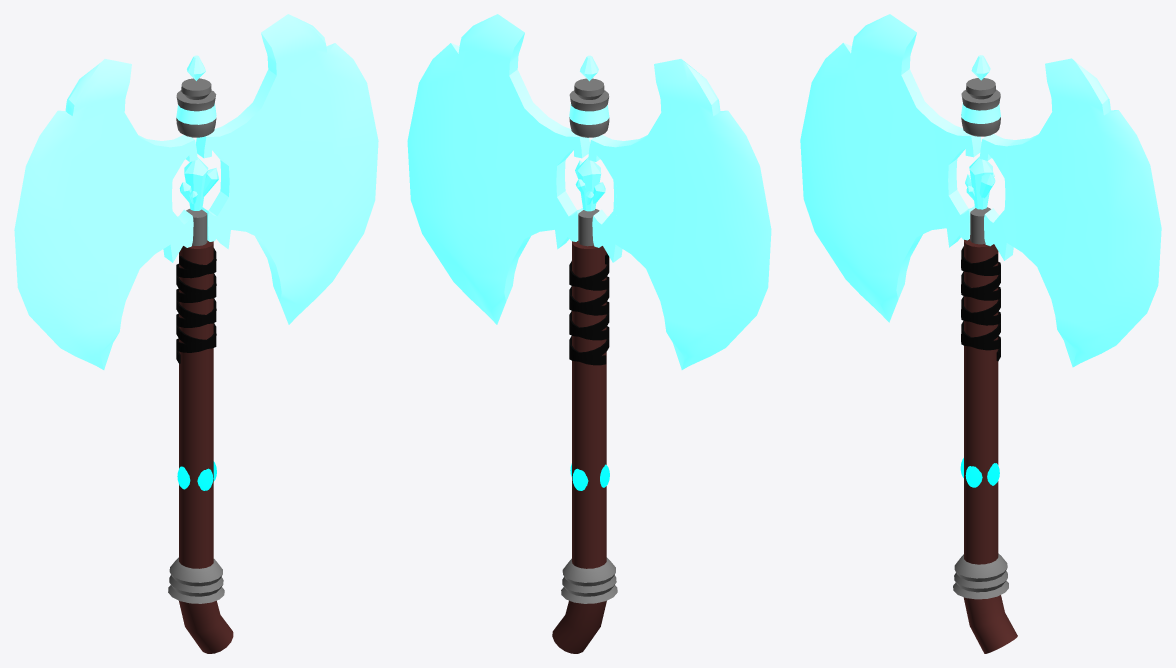
Rendered from Boar_Axe_-_Astral_Updated.fbx.
The picture shows the model from 3 angles, left to right: view 1: azimuth 30°, elevation 25°; view 2: azimuth 150°, elevation 25°; view 3: azimuth 330°, elevation 25°; orthographic projection.
Parts seen in each view (by area): view 1: Cylinder.002; view 2: Cylinder.002; view 3: Cylinder.002.
Part boxes in pixels (x1,y1,x2,y2): Cylinder.002: (14, 14, 378, 653); Cylinder.002: (407, 14, 771, 653); Cylinder.002: (800, 14, 1161, 653).
Bounding box in the file's own units: 81.54 × 132 × 11.88.
